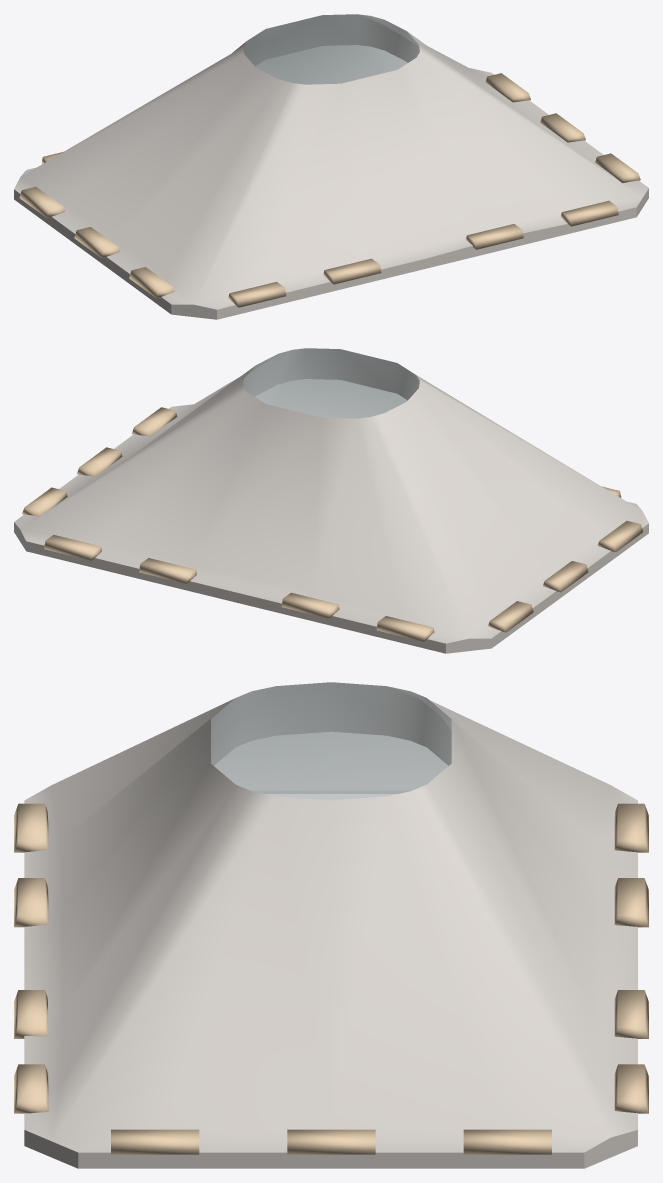
The model's file is bankroof2.glb.
3 renders of one model, top to bottom at view 1: azimuth 30°, elevation 25°; view 2: azimuth 150°, elevation 25°; view 3: azimuth 270°, elevation 25°, orthographic. The views are drawn at different scales.
Visible parts, largest first — view 1: Extrude-Sandstone_Floor.089, Extrude-Glass, object1.447 (×10); view 2: Extrude-Sandstone_Floor.089, Extrude-Glass, object1.447 (×10); view 3: Extrude-Sandstone_Floor.089, Extrude-Glass, object1.447 (×11).
Boxes of the visible parts, bbox=[...] form: Extrude-Sandstone_Floor.089: bbox=[14, 14, 648, 319]; Extrude-Glass: bbox=[243, 14, 419, 84]; object1.447 (×10): bbox=[19, 73, 640, 307]; Extrude-Sandstone_Floor.089: bbox=[14, 348, 648, 653]; Extrude-Glass: bbox=[243, 348, 419, 418]; object1.447 (×10): bbox=[22, 407, 643, 641]; Extrude-Sandstone_Floor.089: bbox=[24, 682, 637, 1168]; Extrude-Glass: bbox=[211, 682, 451, 800]; object1.447 (×11): bbox=[14, 803, 648, 1154].
Bounding box in the file's own units: 10.2 × 3 × 7.2.
